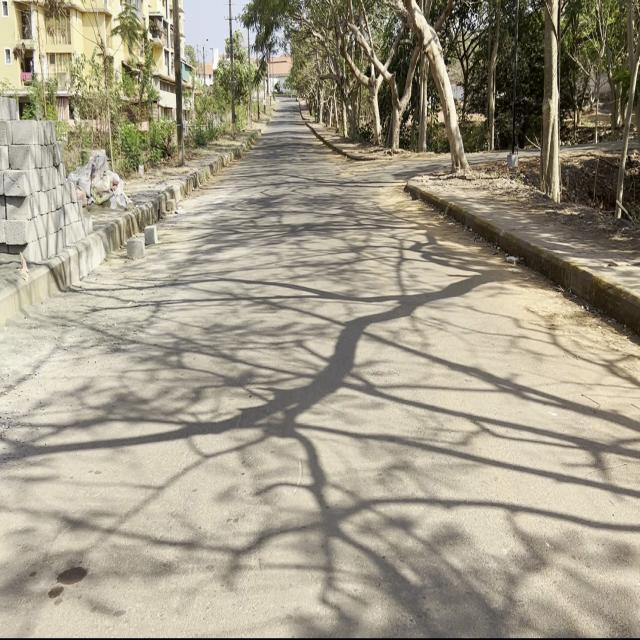Road: (3, 100, 635, 631)
